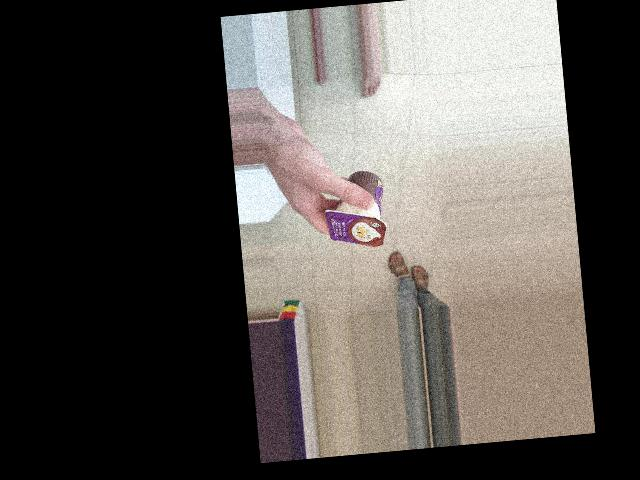milky: (334, 182, 414, 256)
